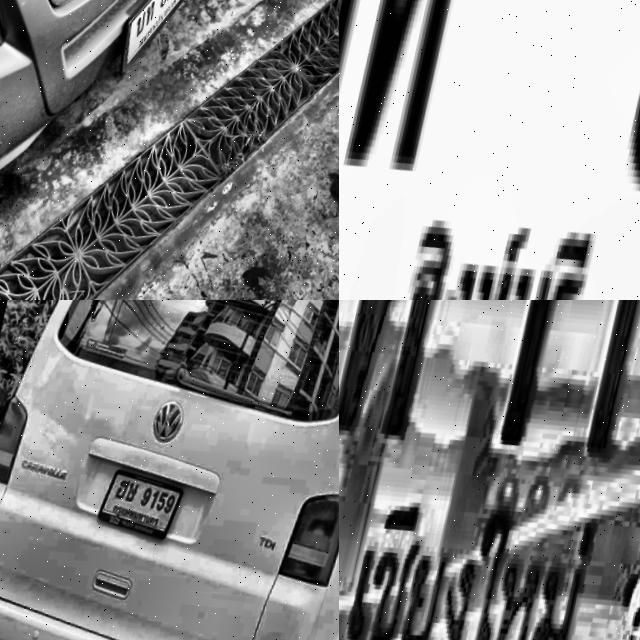license-plate: (339, 300, 640, 640), (339, 0, 640, 300), (96, 461, 190, 554), (115, 0, 205, 90)
